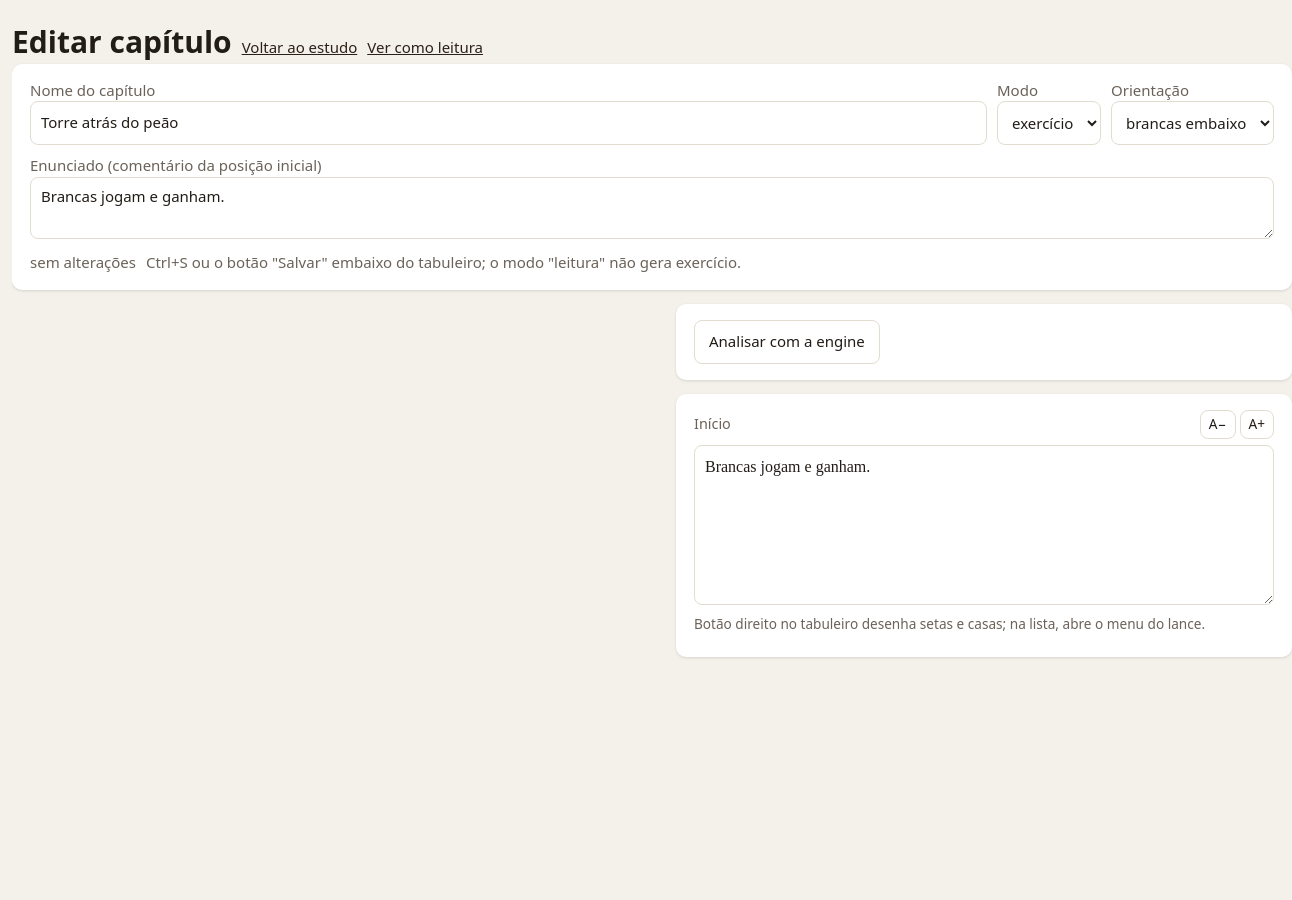
Test case: sem edição no meio do caminho, o formulário fica com a resposta do servidor
Replace the text in the field labelled "Nome do capítulo" with "  Torre por trás  ". click: coordinates (508, 123)
box: [30,101,987,145]
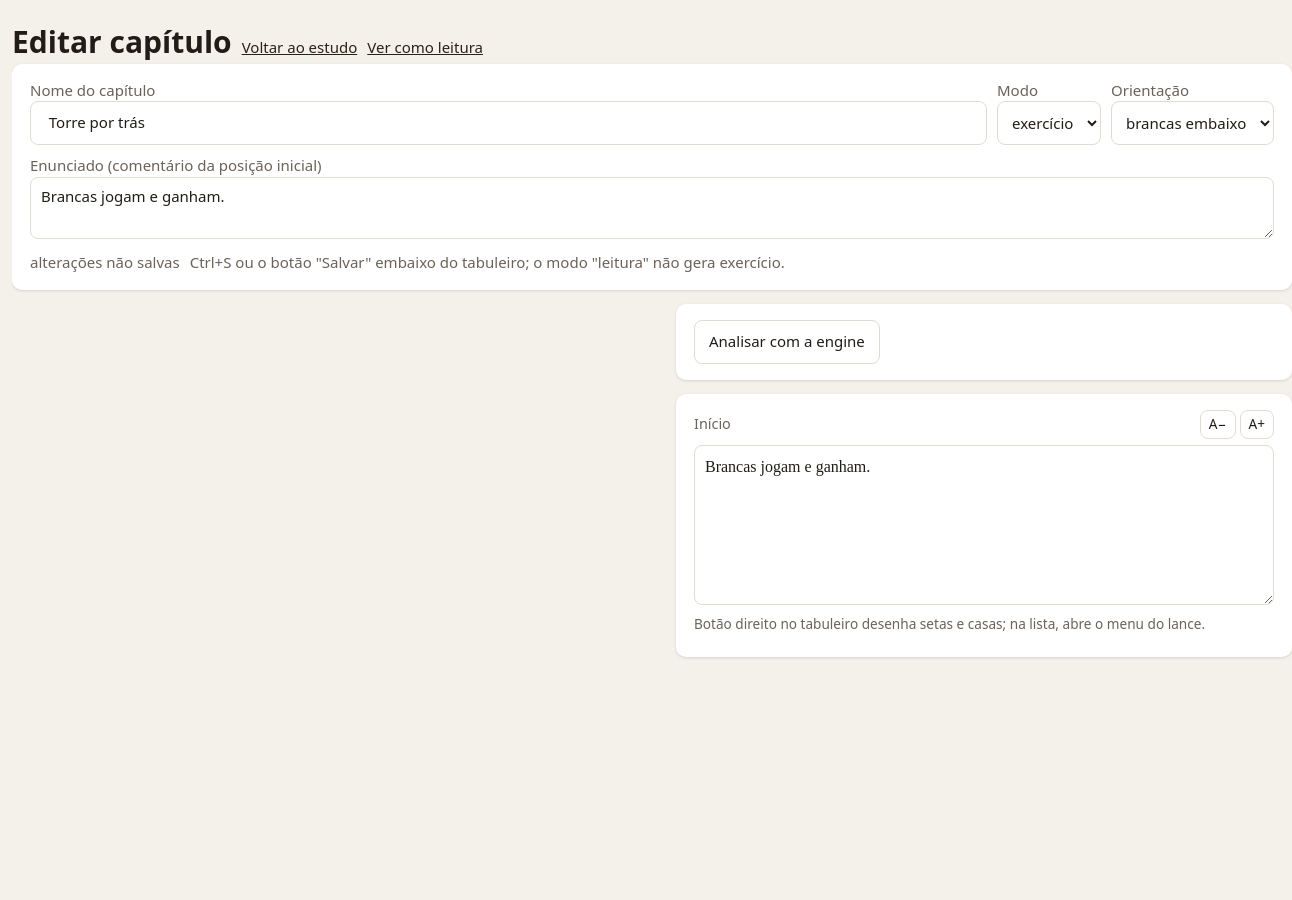
Replace the text in the text box named "Enunciado" with "rascunho". click: coordinates (652, 208)
box: [30,177,1274,239]
(page scrolled)
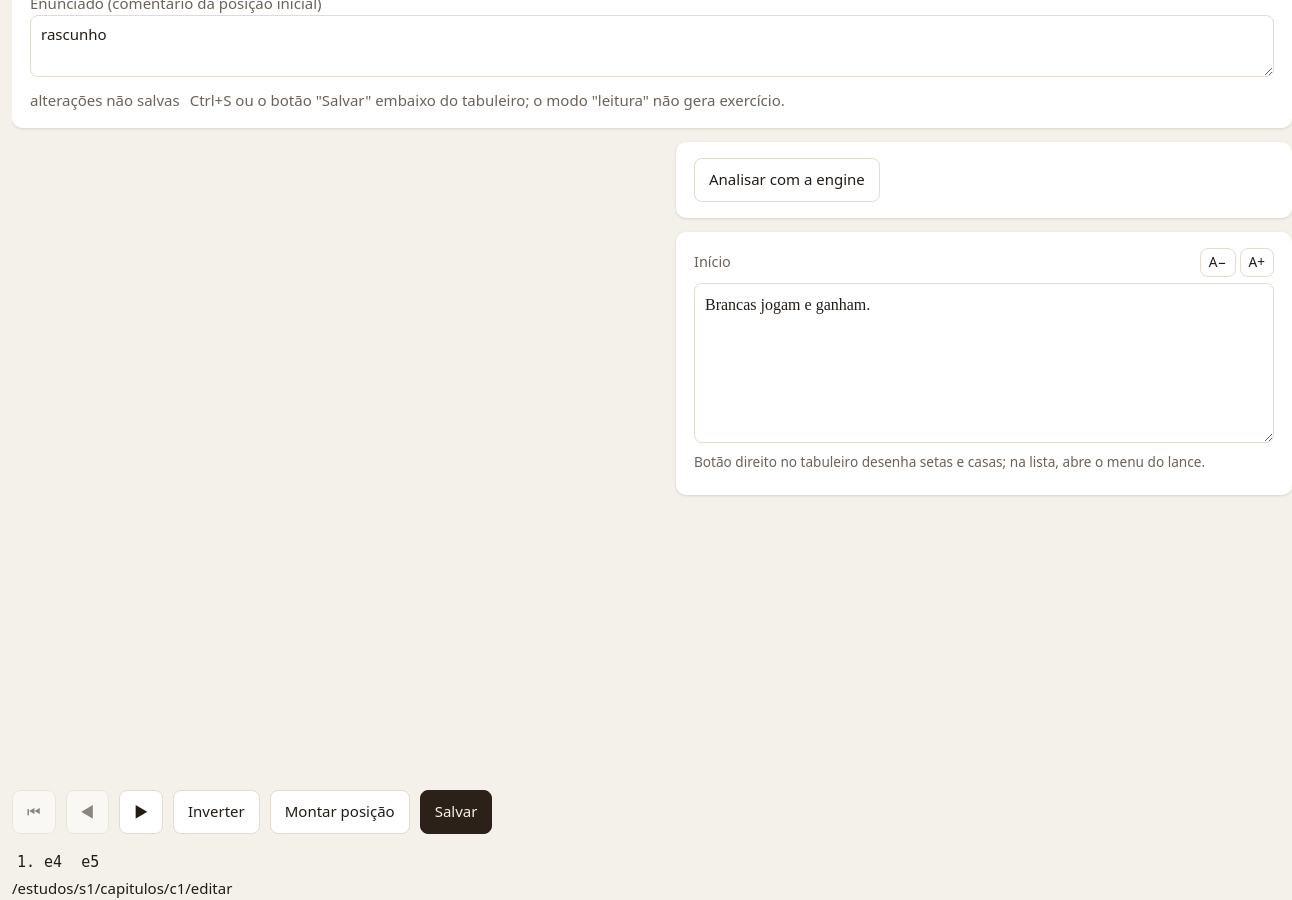
Click the button "Salvar". click: coordinates (456, 812)
box: [420,790,492,834]
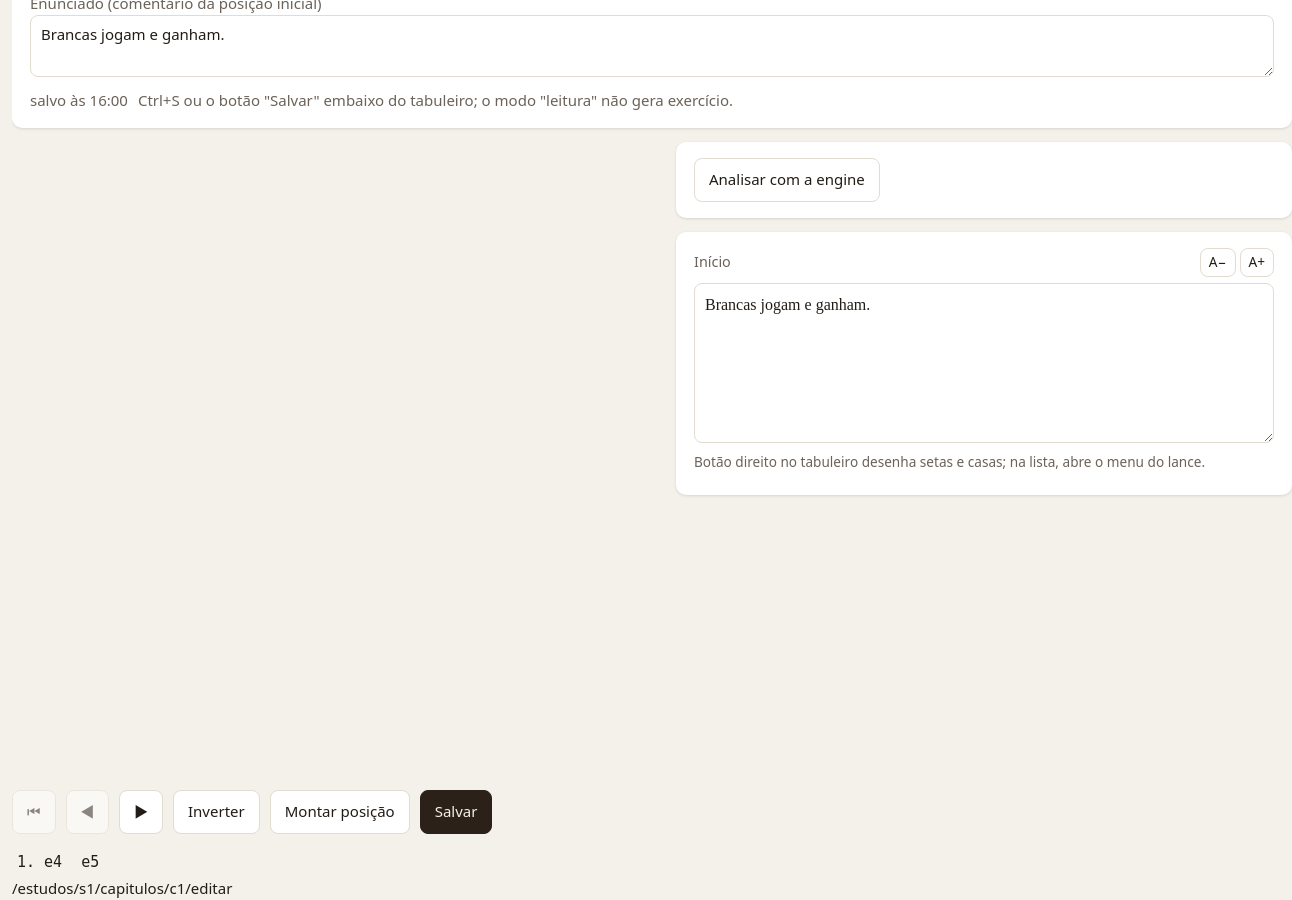
Result: the text "salvo às 16:00" is shown at [30,90,128,112]
Result: the text box named "Enunciado" holds "Brancas jogam e ganham." at [30,15,1274,77]
